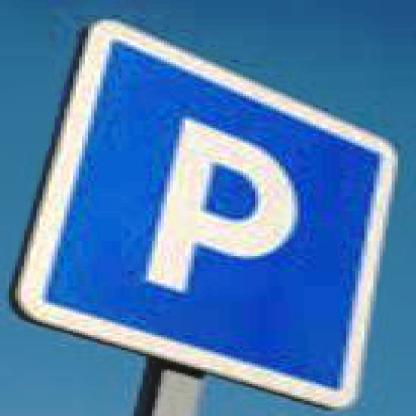Parking: (39, 17, 388, 416)
